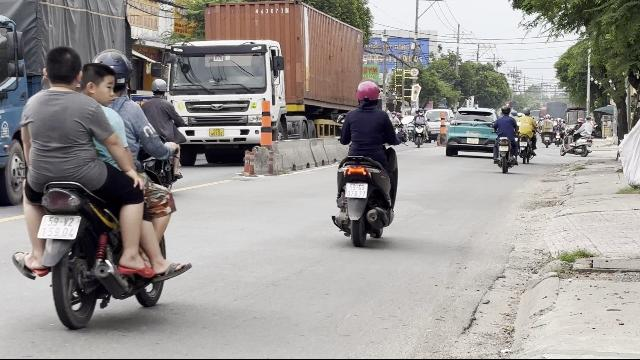helmet: (93, 49, 131, 99), (93, 49, 131, 83), (354, 80, 380, 106), (149, 78, 167, 98)
licenseplate: (36, 215, 80, 239), (344, 183, 368, 199)
motorcyclist: (6, 46, 184, 330), (329, 78, 401, 246), (136, 78, 187, 198)
nohelmet: (41, 46, 83, 88), (80, 62, 116, 104)
